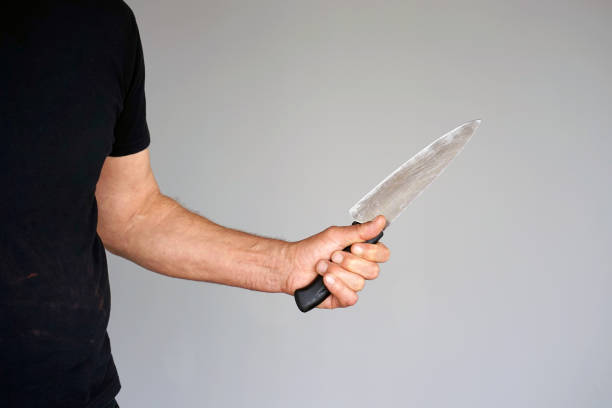knife: (288, 116, 486, 316)
